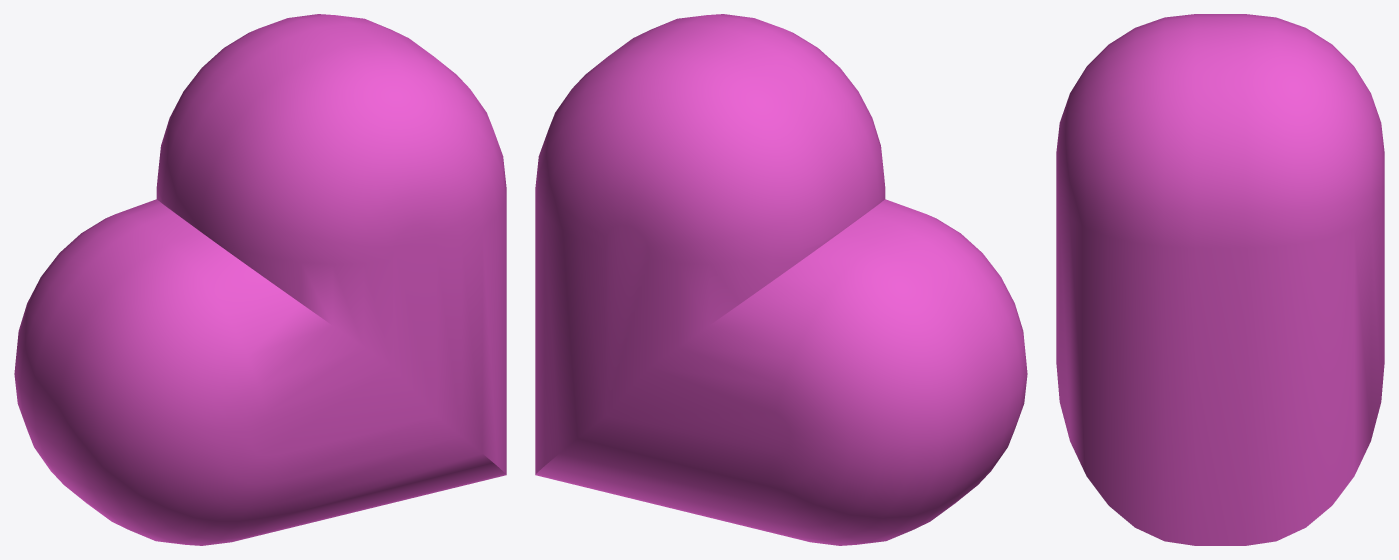
Rendered from SERDCE.fbx.
3 views of the same model, side by side, from view 1: azimuth 30°, elevation 25°; view 2: azimuth 150°, elevation 25°; view 3: azimuth 270°, elevation 25° (orthographic).
Parts seen in each view (by area): view 1: Cube; view 2: Cube; view 3: Cube.
Boxes of the visible parts, x1,y1,x2,y2 form: Cube: (14,14,506,545); Cube: (535,14,1027,545); Cube: (1056,14,1384,545).
Size of the model in its own units: 299 by 300 by 200.
